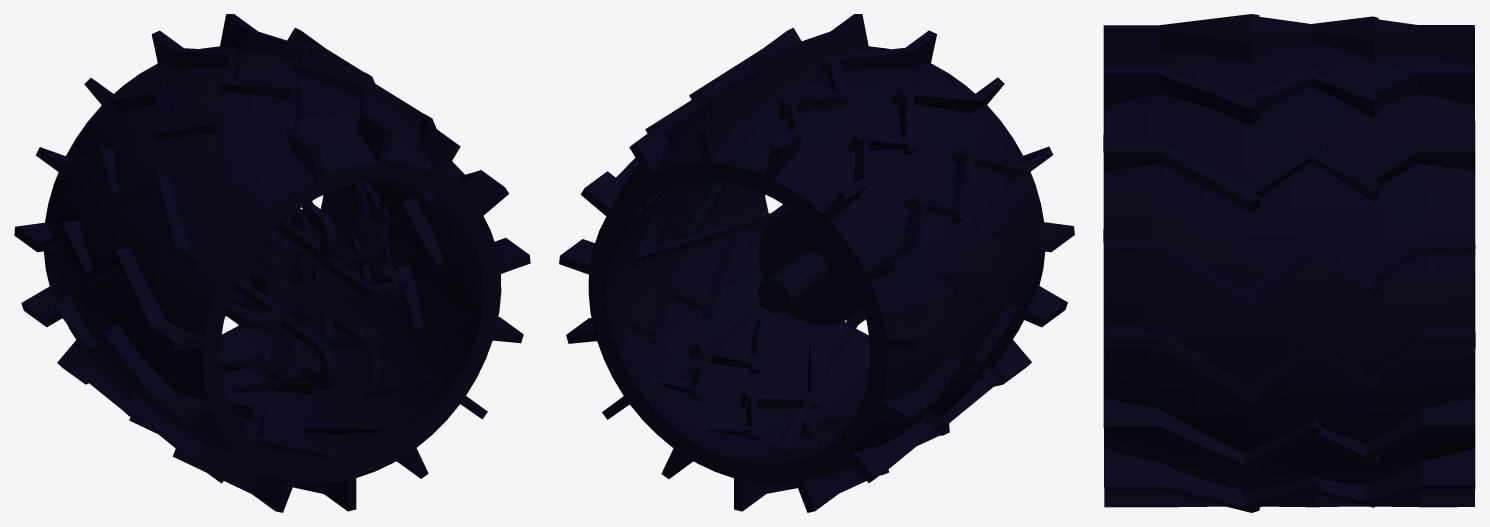
The model's file is Mars6Mars_Rover__Curiosity_1_0__-_1__Rover_Wheel_left_3.001.dae.
3 views of the same model, side by side, from view 1: azimuth 30°, elevation 25°; view 2: azimuth 150°, elevation 25°; view 3: azimuth 270°, elevation 25° (orthographic). The views are drawn at different scales.
Visible parts, largest first — view 1: tmp_export_Mars6Mars_Rover__Curiosity_1_0__-_1__Rover_Wheel_; view 2: tmp_export_Mars6Mars_Rover__Curiosity_1_0__-_1__Rover_Wheel_; view 3: tmp_export_Mars6Mars_Rover__Curiosity_1_0__-_1__Rover_Wheel_.
Part boxes in pixels (<box>): tmp_export_Mars6Mars_Rover__Curiosity_1_0__-_1__Rover_Wheel_: <box>14,14,530,512</box>; tmp_export_Mars6Mars_Rover__Curiosity_1_0__-_1__Rover_Wheel_: <box>559,14,1074,512</box>; tmp_export_Mars6Mars_Rover__Curiosity_1_0__-_1__Rover_Wheel_: <box>1103,14,1475,512</box>.
Size of the model in its own units: 1.01 by 0.7499 by 1.
